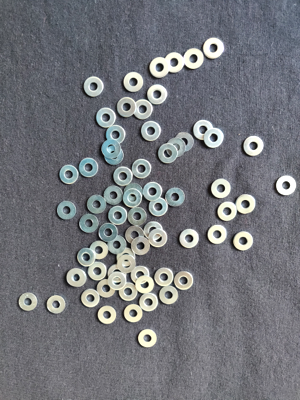circle: (82, 75, 104, 99), (202, 38, 225, 60), (276, 175, 298, 197), (18, 290, 39, 313), (95, 107, 116, 130), (105, 124, 126, 146), (236, 194, 257, 216), (209, 179, 231, 200), (244, 136, 265, 158), (184, 49, 205, 71), (46, 293, 66, 316), (208, 224, 228, 247), (66, 268, 87, 289), (79, 213, 100, 234), (86, 194, 107, 215), (103, 185, 124, 206), (123, 72, 144, 93), (133, 99, 154, 120), (150, 57, 171, 78), (164, 52, 185, 73), (148, 197, 170, 217), (147, 83, 167, 105), (205, 128, 225, 150), (166, 187, 186, 209), (88, 240, 109, 260), (56, 200, 77, 220), (108, 205, 128, 226), (127, 207, 148, 227), (59, 164, 79, 185), (78, 157, 98, 178), (132, 158, 152, 179), (141, 121, 161, 142), (158, 143, 178, 164), (194, 120, 214, 141), (180, 229, 200, 250), (217, 202, 238, 222), (97, 306, 117, 326), (88, 261, 108, 281), (143, 221, 163, 241), (143, 182, 163, 202), (175, 132, 195, 152), (234, 232, 254, 252), (117, 97, 136, 118), (81, 288, 100, 308), (76, 246, 95, 266), (108, 271, 127, 291), (117, 255, 137, 274), (124, 304, 143, 324), (131, 266, 150, 286), (156, 268, 175, 288), (160, 285, 179, 305), (175, 271, 194, 291), (132, 237, 152, 256), (125, 226, 145, 245), (149, 228, 168, 248), (124, 183, 144, 202), (113, 167, 133, 186), (104, 147, 124, 166), (167, 137, 186, 157), (66, 270, 87, 288), (107, 264, 128, 282), (99, 223, 118, 242), (117, 248, 136, 267), (138, 330, 157, 349), (102, 140, 121, 159), (96, 280, 116, 298), (107, 235, 125, 255), (140, 293, 158, 312), (136, 276, 154, 295), (120, 283, 138, 301), (123, 189, 141, 207)
